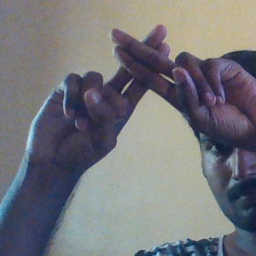F: (71, 21, 225, 141)
